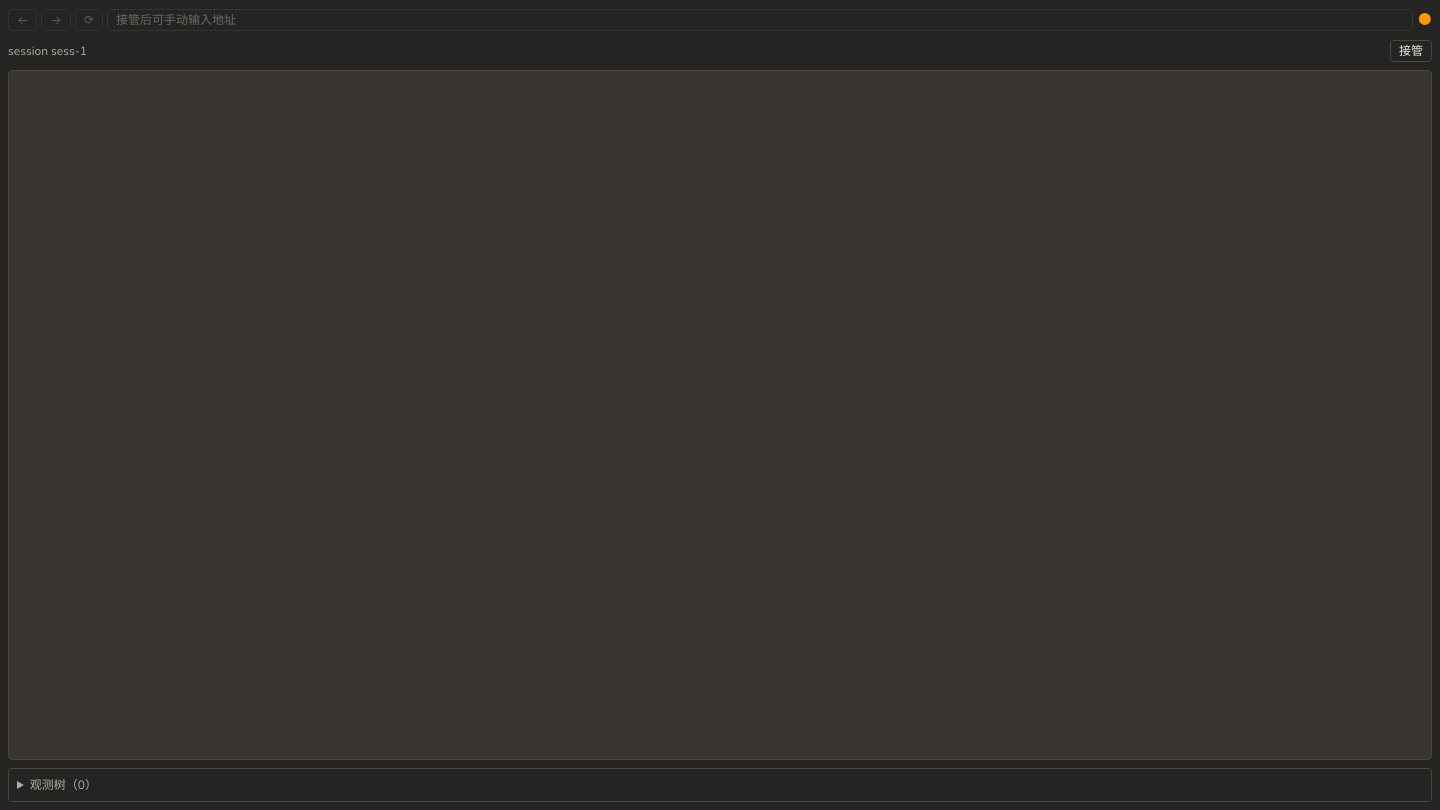
BrowserView › takeover › toggles takeover via the Go binding and shows banner
Click the button "接管" at (1411, 51), box [1390,40,1432,62]
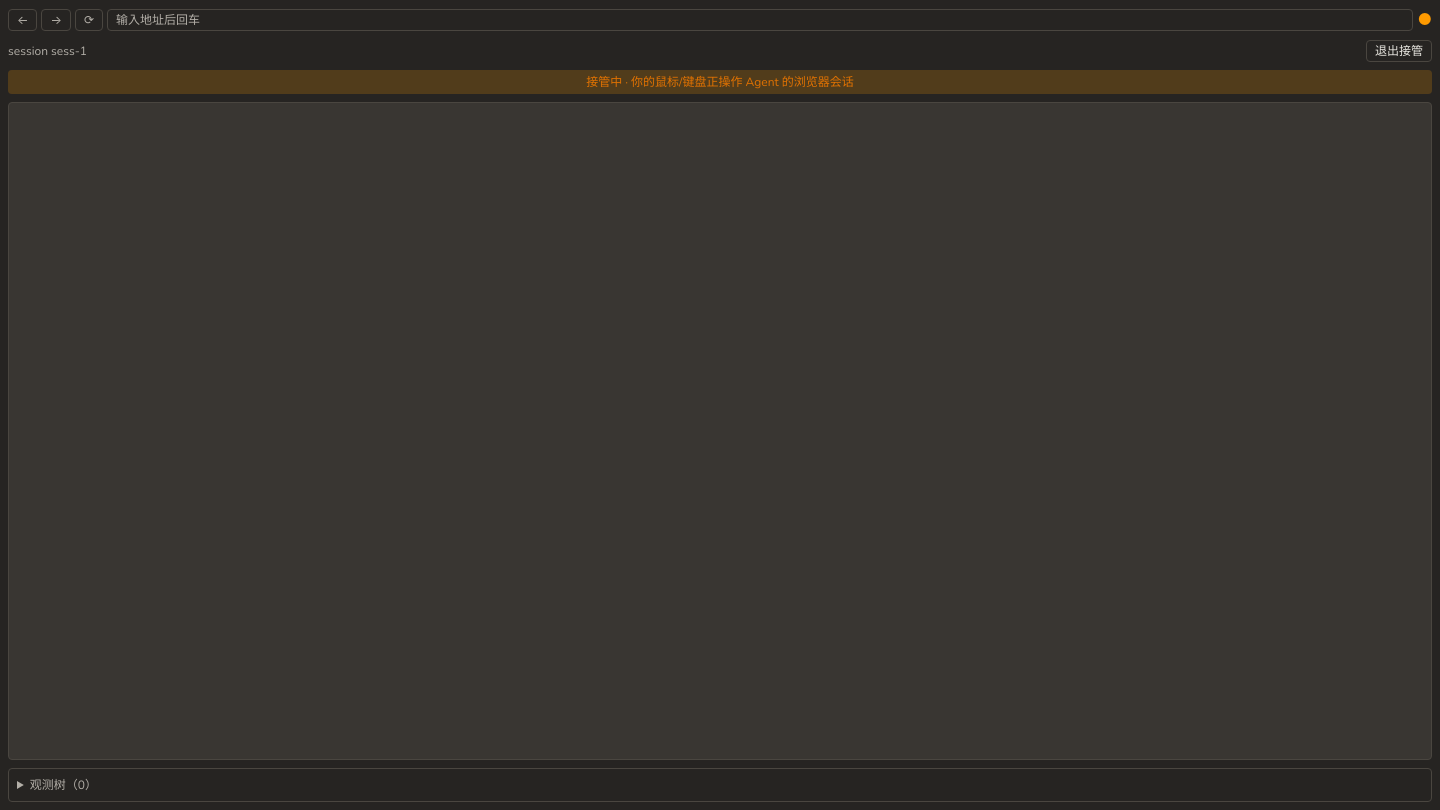
Expected: the text "接管中 · 你的鼠标/键盘正操作 Agent 的浏览器会话" is shown, [8,70,1432,94]
